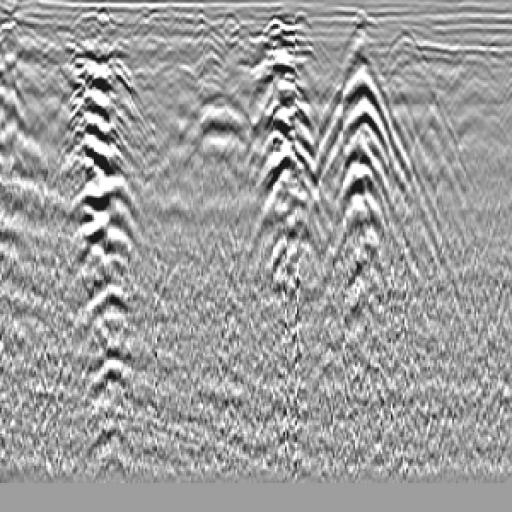metalic: (148, 61, 284, 189)
